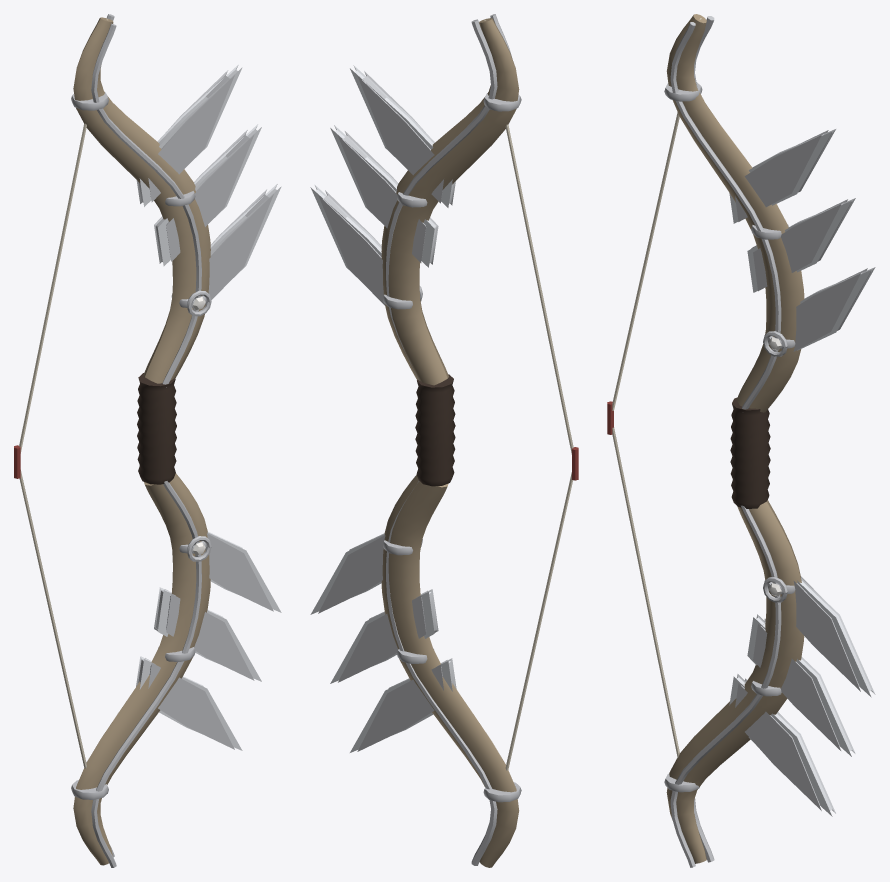
Rendered from thornback_bow.glb.
The picture shows the model from 3 angles, left to right: view 1: azimuth 30°, elevation 25°; view 2: azimuth 150°, elevation 25°; view 3: azimuth 330°, elevation 25°; orthographic projection.
Visible parts, largest first — view 1: thornback_bow; view 2: thornback_bow; view 3: thornback_bow.
Part boxes in pixels (left/top/right/bottom): thornback_bow: left=14, top=14, right=281, bottom=867; thornback_bow: left=310, top=14, right=578, bottom=867; thornback_bow: left=607, top=14, right=875, bottom=867.
Size of the model in its own units: 0.4762 by 1.45 by 0.0643.
